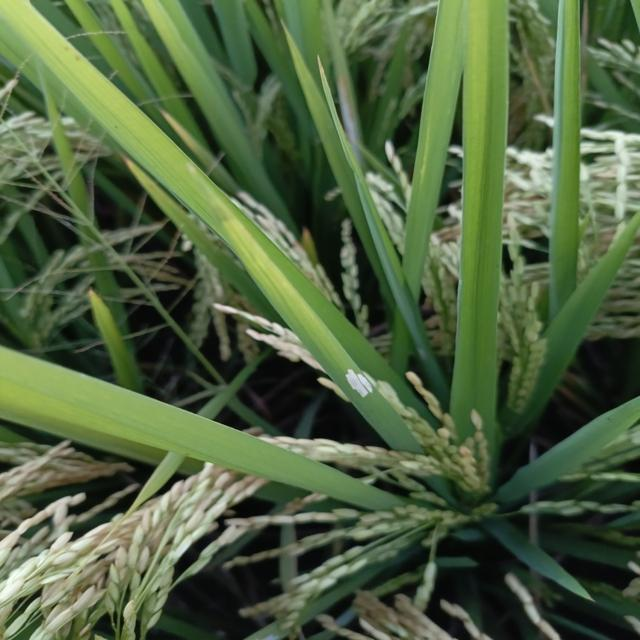brown plant hopper: (338, 365, 384, 400)
